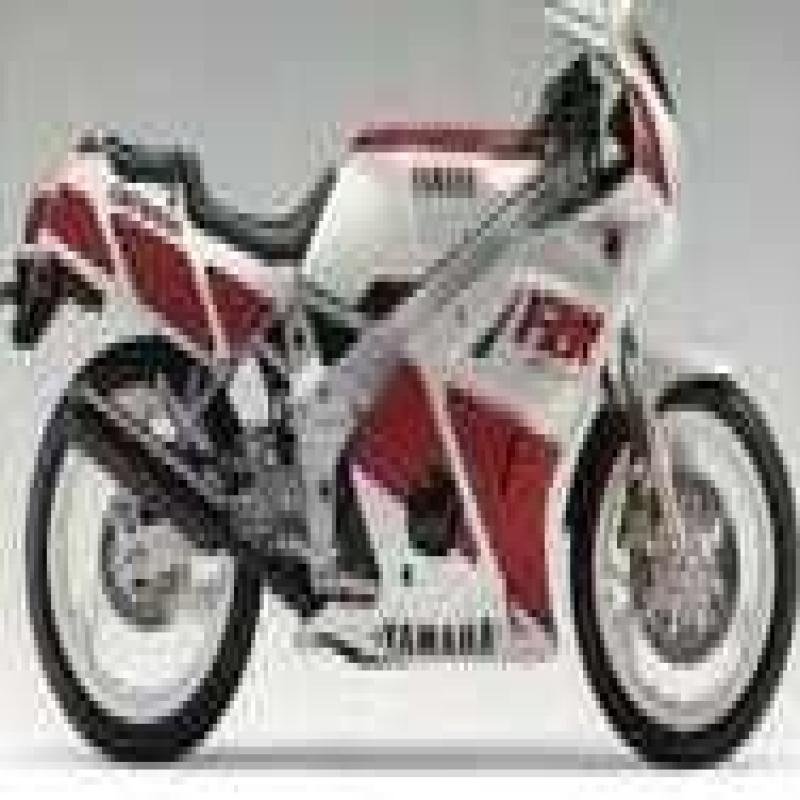bike: (4, 18, 800, 792)
